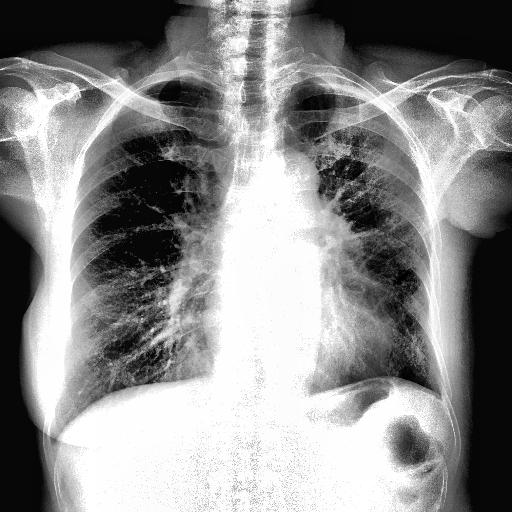11- Pleural thickening: (306, 74, 376, 104), (130, 71, 202, 97)
7- Lung Opacity: (322, 226, 406, 378), (310, 252, 408, 375)
